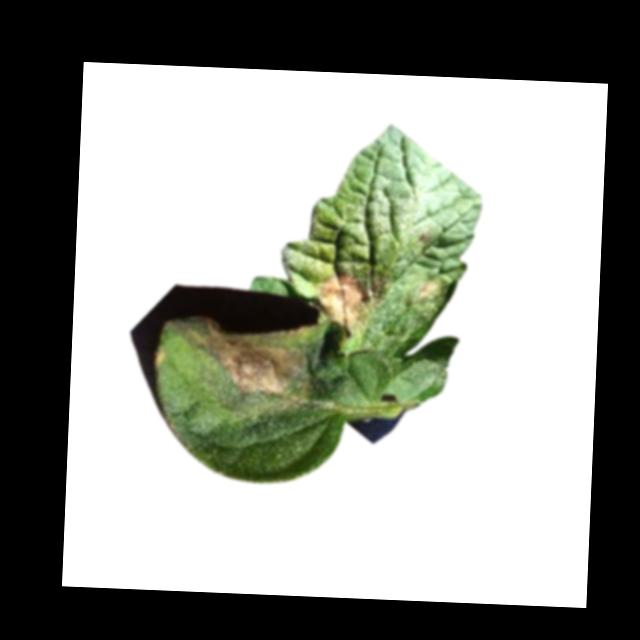Late_blight: (169, 316, 307, 404), (314, 266, 386, 343), (418, 277, 443, 304)
